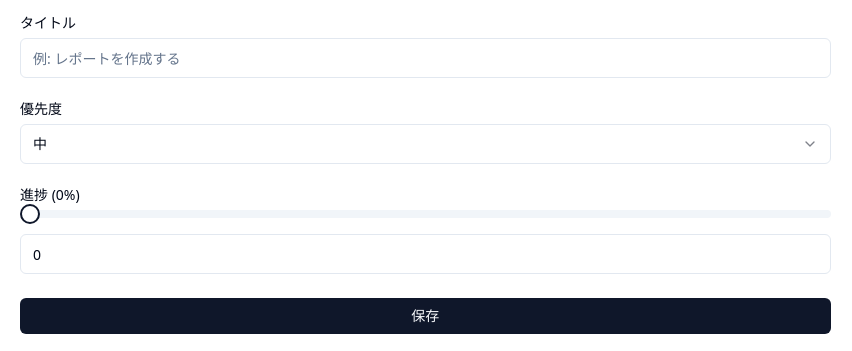
Scenario: TodoForm › 入力操作 › 進捗を数値入力で変更できる
The width and height of the screenshot is (852, 351).
Replace the text in the number field with "50" at (425, 254), box [20,234,831,274]
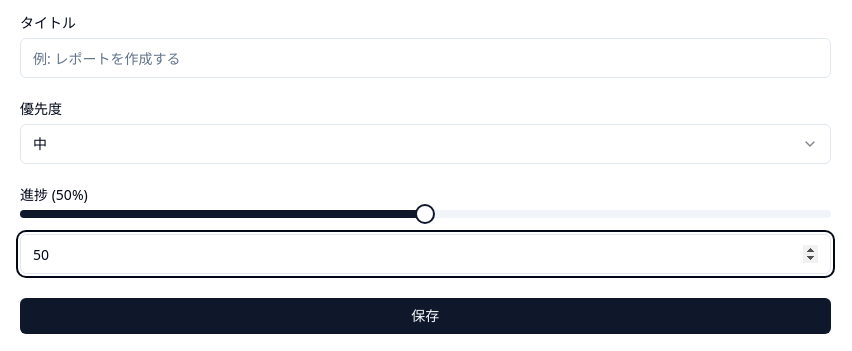
Result: the text "進捗 (50%)" is shown at [20,185,88,204]
